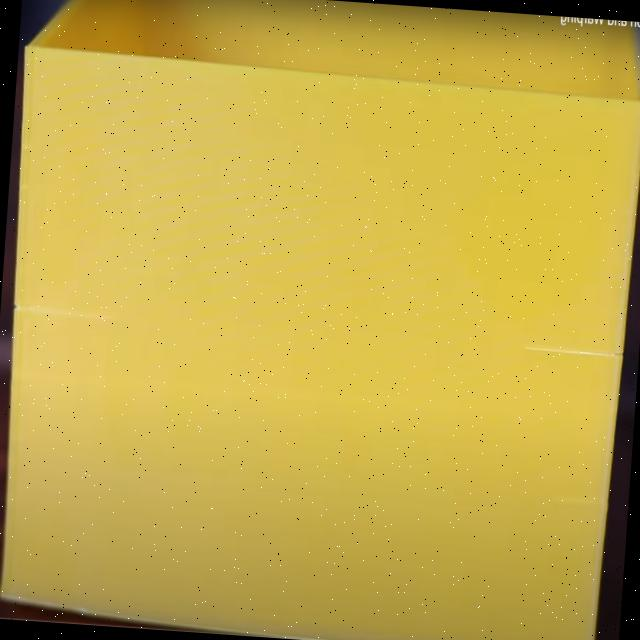cracks: (496, 326, 630, 376), (0, 285, 132, 333)
